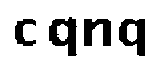c: (12, 16, 39, 50)
n: (81, 16, 112, 50)
q: (117, 14, 150, 60), (48, 17, 78, 60)
